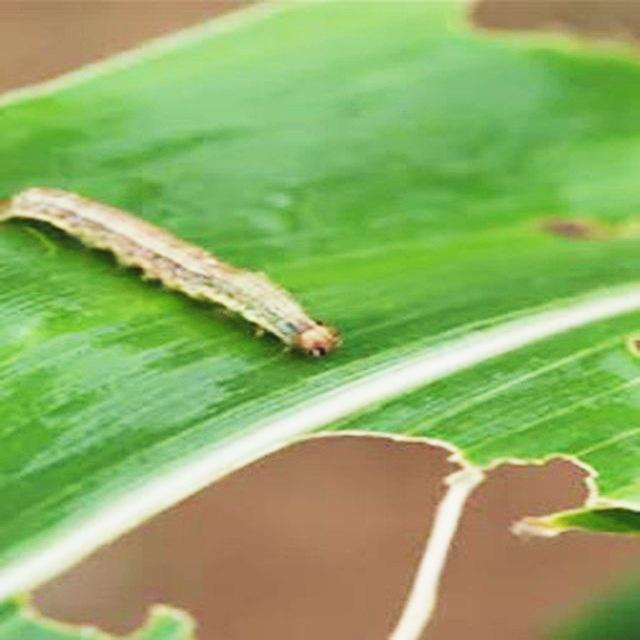gusano_cogollero: (0, 184, 342, 367)
